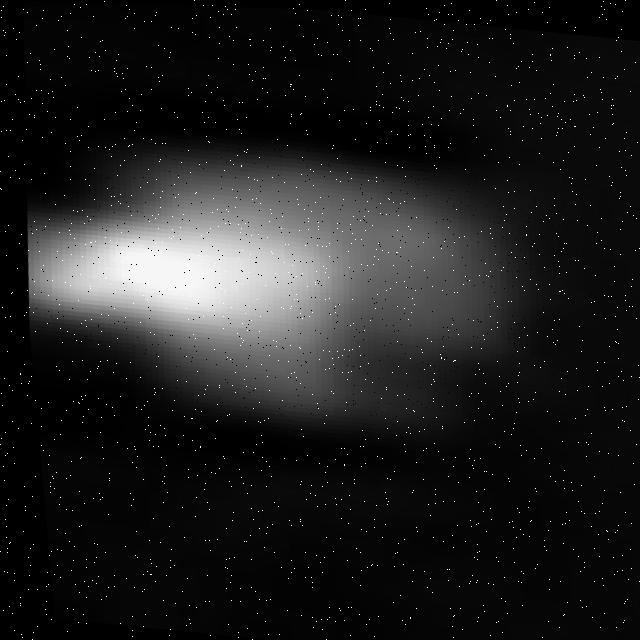person: (9, 110, 585, 454)
